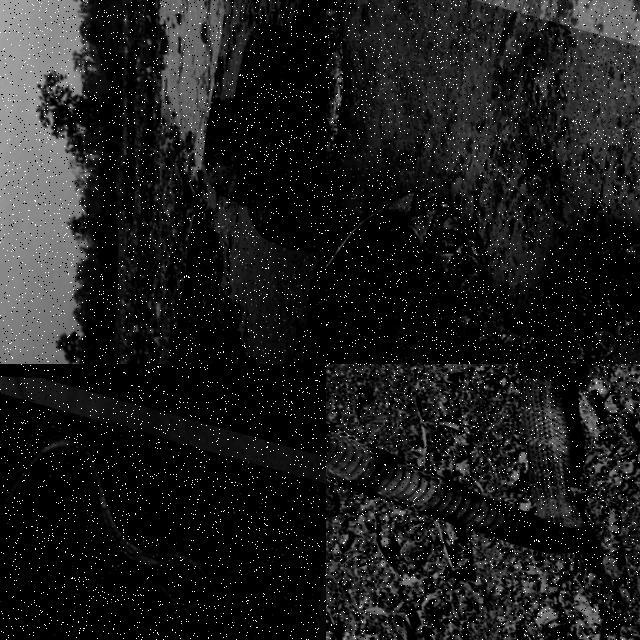Malayopython reticulatus: (326, 194, 639, 363)
Ophiophagus hannah: (0, 423, 304, 639), (326, 364, 588, 552)
Python bivittatus: (208, 0, 325, 250)
snake: (0, 423, 304, 639), (326, 194, 639, 363), (326, 364, 588, 552), (208, 0, 325, 250)
